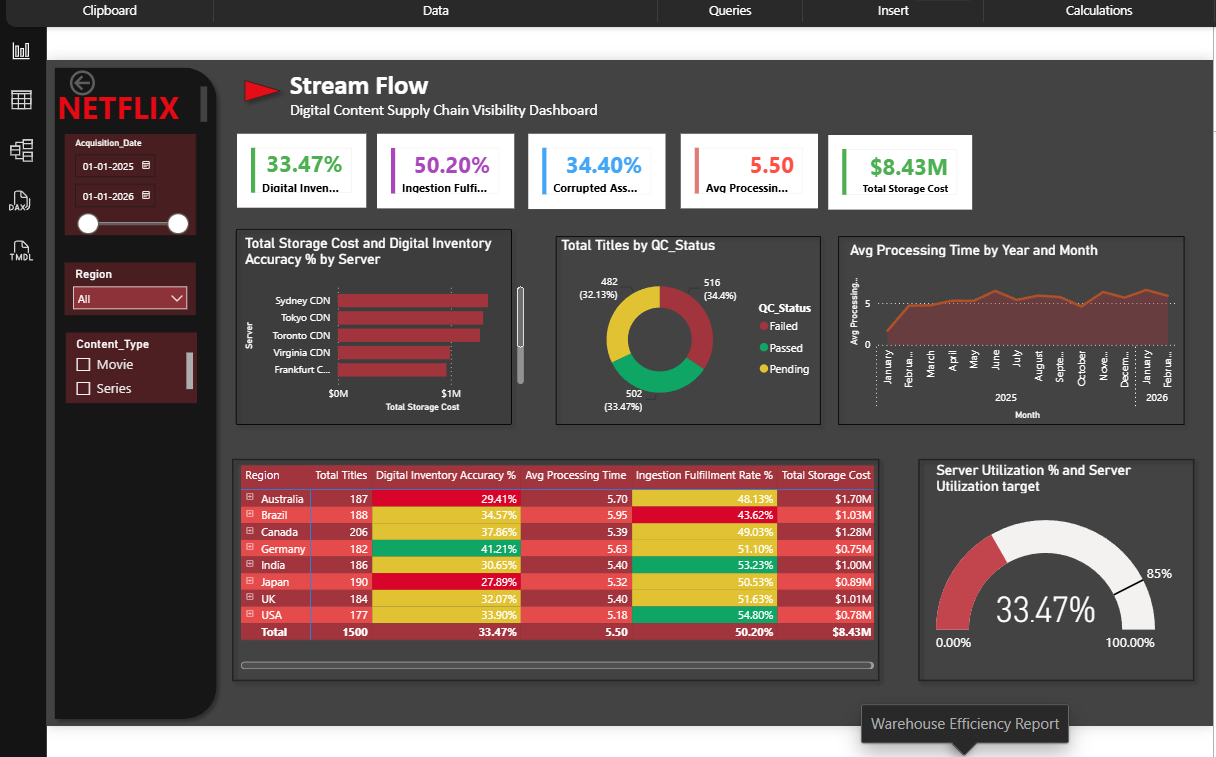

The page's visual inventory and layout, read from the dashboard file:
{"tool":"powerbi","page":{"name":"Warehouse Efficiency Report","canvas":[1400,800],"ordinal":4},"visuals":[{"type":"shape","box":[0,0,212.7,800.3],"z":0},{"type":"textbox","box":[6.8,27.3,189.5,55.9],"z":1000},{"type":"cardVisual","fields":{"Data":["Netflix_Content_Supply_Chain.Corrupted Asset Rate %"]},"box":[577.8,88.5,165,90],"z":2000},{"type":"cardVisual","fields":{"Data":["Netflix_Content_Supply_Chain.Total Storage Cost"]},"box":[938.3,89.8,172.9,89.8],"z":3000},{"type":"cardVisual","fields":{"Data":["Netflix_Content_Supply_Chain.Digital Inventory Accuracy %"]},"box":[227.9,88.5,155.5,88.5],"z":4000},{"type":"shape","box":[227.9,14.7,63,44.2],"z":5000},{"type":"textbox","box":[286.9,6.7,191.7,61.7],"z":6000},{"type":"textbox","box":[286.9,44.2,394.1,40.2],"z":7000},{"type":"shape","box":[217.6,193.6,349.7,253.6],"z":8000},{"type":"shape","box":[601.8,202.6,336.2,244.6],"z":9000},{"type":"shape","box":[213.1,469.8,795.5,285.2],"z":10000},{"type":"slicer","fields":{"Values":["Netflix_Content_Supply_Chain.Content_Type"]},"box":[22.8,327.7,157.5,84.9],"z":11000},{"type":"slicer","fields":{"Values":["Netflix_Content_Supply_Chain.Region"]},"box":[20.5,243.5,157.5,63],"z":12000},{"type":"slicer","fields":{"Values":["Netflix_Content_Supply_Chain.Acquisition_Date"]},"box":[20.5,88.8,157.5,121.9],"z":13000},{"type":"cardVisual","fields":{"Data":["Netflix_Content_Supply_Chain.Avg Processing Time"]},"box":[761.4,88.5,165,90],"z":14000},{"type":"cardVisual","fields":{"Data":["Netflix_Content_Supply_Chain.Ingestion Fulfillment Rate %"]},"box":[396.8,88.5,165,90],"z":15000},{"type":"shape","box":[941,202.6,433.7,244.6],"z":16000},{"type":"actionButton","box":[22.8,6.8,100,40],"z":17000},{"type":"clusteredBarChart","fields":{"Category":["Netflix_Content_Supply_Chain.Server"],"Y":["Netflix_Content_Supply_Chain.Total Storage Cost"]},"box":[232.6,210.1,345.2,217.8],"z":18000},{"type":"donutChart","fields":{"Category":["Netflix_Content_Supply_Chain.QC_Status"],"Y":["Netflix_Content_Supply_Chain.Total Titles"]},"box":[612.4,211.6,329.3,217.8],"z":19000},{"type":"lineChart","fields":{"Y":["Netflix_Content_Supply_Chain.Avg Processing Time"],"Category":["Netflix_Content_Supply_Chain.Release_Date.Variation.Date Hierarchy.Year","Netflix_Content_Supply_Chain.Release_Date.Variation.Date Hierarchy.Month"]},"box":[959.1,217.6,402.2,219.1],"z":20000},{"type":"pivotTable","fields":{"Rows":["Netflix_Content_Supply_Chain.Region","Netflix_Content_Supply_Chain.Server"],"Values":["Netflix_Content_Supply_Chain.Total Titles","Netflix_Content_Supply_Chain.Digital Inventory Accuracy %","Netflix_Content_Supply_Chain.Avg Processing Time","Netflix_Content_Supply_Chain.Ingestion Fulfillment Rate %","Netflix_Content_Supply_Chain.Total Storage Cost"]},"box":[228.1,481.8,770.1,254.9],"z":21000},{"type":"gauge","fields":{"Y":["Netflix_Content_Supply_Chain.Server Utilization %"],"TargetValue":["Netflix_Content_Supply_Chain.Server Utilization target"]},"box":[1062.6,481.8,299,255],"z":22000},{"type":"shape","box":[1037.1,469.8,349.7,285.2],"z":23000}]}

Visuals, with their boxes on the page's 1400x800 design canvas (x1, y1, x2, y2). These are canvas units, not pixel positions in the 1216x757 screenshot, which may show the page scaled, cropped or inside an application window:
shape: x1=0, y1=0, x2=213, y2=800
textbox: x1=7, y1=27, x2=196, y2=83
cardVisual - Netflix_Content_Supply_Chain.Corrupted Asset Rate %: x1=578, y1=88, x2=743, y2=178
cardVisual - Netflix_Content_Supply_Chain.Total Storage Cost: x1=938, y1=90, x2=1111, y2=180
cardVisual - Netflix_Content_Supply_Chain.Digital Inventory Accuracy %: x1=228, y1=88, x2=383, y2=177
shape: x1=228, y1=15, x2=291, y2=59
textbox: x1=287, y1=7, x2=479, y2=68
textbox: x1=287, y1=44, x2=681, y2=84
shape: x1=218, y1=194, x2=567, y2=447
shape: x1=602, y1=203, x2=938, y2=447
shape: x1=213, y1=470, x2=1009, y2=755
slicer - Netflix_Content_Supply_Chain.Content_Type: x1=23, y1=328, x2=180, y2=413
slicer - Netflix_Content_Supply_Chain.Region: x1=20, y1=244, x2=178, y2=306
slicer - Netflix_Content_Supply_Chain.Acquisition_Date: x1=20, y1=89, x2=178, y2=211
cardVisual - Netflix_Content_Supply_Chain.Avg Processing Time: x1=761, y1=88, x2=926, y2=178
cardVisual - Netflix_Content_Supply_Chain.Ingestion Fulfillment Rate %: x1=397, y1=88, x2=562, y2=178
shape: x1=941, y1=203, x2=1375, y2=447
actionButton: x1=23, y1=7, x2=123, y2=47
clusteredBarChart - Netflix_Content_Supply_Chain.Server x Netflix_Content_Supply_Chain.Total Storage Cost: x1=233, y1=210, x2=578, y2=428
donutChart - Netflix_Content_Supply_Chain.QC_Status x Netflix_Content_Supply_Chain.Total Titles: x1=612, y1=212, x2=942, y2=429
lineChart - Netflix_Content_Supply_Chain.Avg Processing Time x Netflix_Content_Supply_Chain.Release_Date.Variation.Date Hierarchy.Year: x1=959, y1=218, x2=1361, y2=437
pivotTable - Netflix_Content_Supply_Chain.Region x Netflix_Content_Supply_Chain.Server: x1=228, y1=482, x2=998, y2=737
gauge - Netflix_Content_Supply_Chain.Server Utilization % x Netflix_Content_Supply_Chain.Server Utilization target: x1=1063, y1=482, x2=1362, y2=737
shape: x1=1037, y1=470, x2=1387, y2=755
